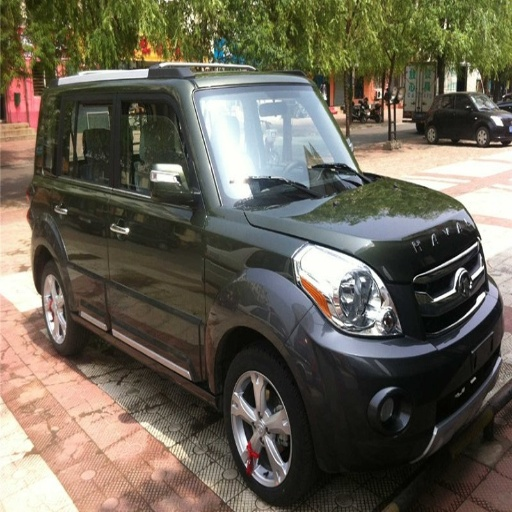front_bumper: (292, 247, 509, 470)
front_right_door: (109, 97, 202, 379)
front_right_light: (294, 243, 405, 337)
